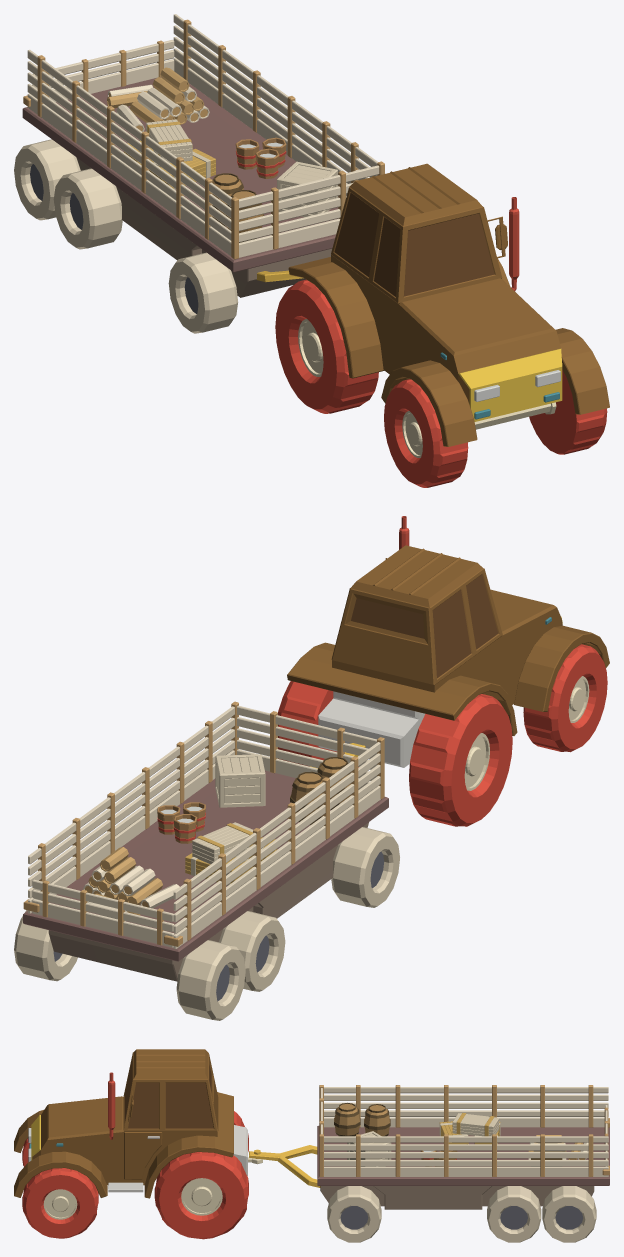
File: tractor_a03.gltf
3 renders of one model, top to bottom at view 1: azimuth 30°, elevation 25°; view 2: azimuth 150°, elevation 25°; view 3: azimuth 270°, elevation 25°, orthographic. The views are drawn at different scales.
Parts seen in each view (by area): view 1: body, wheel_7, wheel_3, wheel_0, wheel_23, wheel_27, wheel_31; view 2: body, wheel_7, wheel_3, wheel_23, wheel_31, wheel_27; view 3: body, wheel_5, wheel_1, wheel_20, wheel_28, wheel_24, wheel_8, wheel_16, wheel_12.
Part boxes in pixels (bbox=[...]): body: bbox=[20, 14, 609, 487]; wheel_7: bbox=[275, 290, 336, 409]; wheel_3: bbox=[384, 387, 433, 484]; wheel_0: bbox=[529, 370, 576, 453]; wheel_23: bbox=[14, 148, 50, 218]; wheel_27: bbox=[53, 177, 89, 247]; wheel_31: bbox=[168, 261, 204, 331]; body: bbox=[14, 516, 609, 1020]; wheel_7: bbox=[451, 704, 512, 822]; wheel_3: bbox=[558, 652, 607, 749]; wheel_23: bbox=[209, 949, 245, 1018]; wheel_31: bbox=[364, 836, 399, 905]; wheel_27: bbox=[249, 920, 285, 989]; body: bbox=[14, 1049, 609, 1242]; wheel_5: bbox=[159, 1160, 244, 1237]; wheel_1: bbox=[26, 1175, 94, 1237]; wheel_20: bbox=[544, 1197, 594, 1241]; wheel_28: bbox=[329, 1197, 379, 1241]; wheel_24: bbox=[489, 1197, 539, 1241]; wheel_8: bbox=[555, 1206, 583, 1229]; wheel_16: bbox=[340, 1206, 368, 1229]; wheel_12: bbox=[500, 1206, 527, 1229].
Bounding box in the file's own units: 2.51 × 2.77 × 9.53.
Materials: 1 (1 with a texture image).
